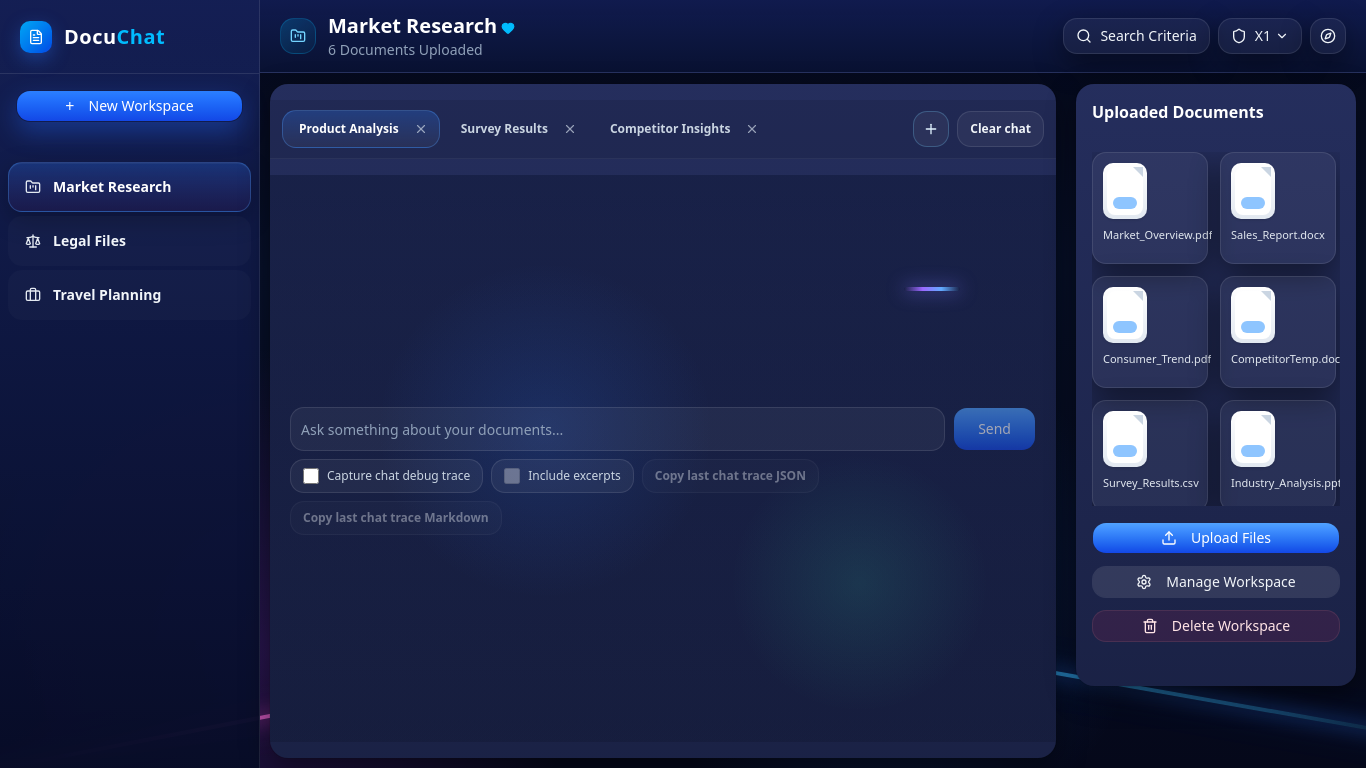
Scenario: App › closes the icon peaker on Escape
Click the button named "Change icon for Market Research": [298, 36] box [280, 18, 316, 54]
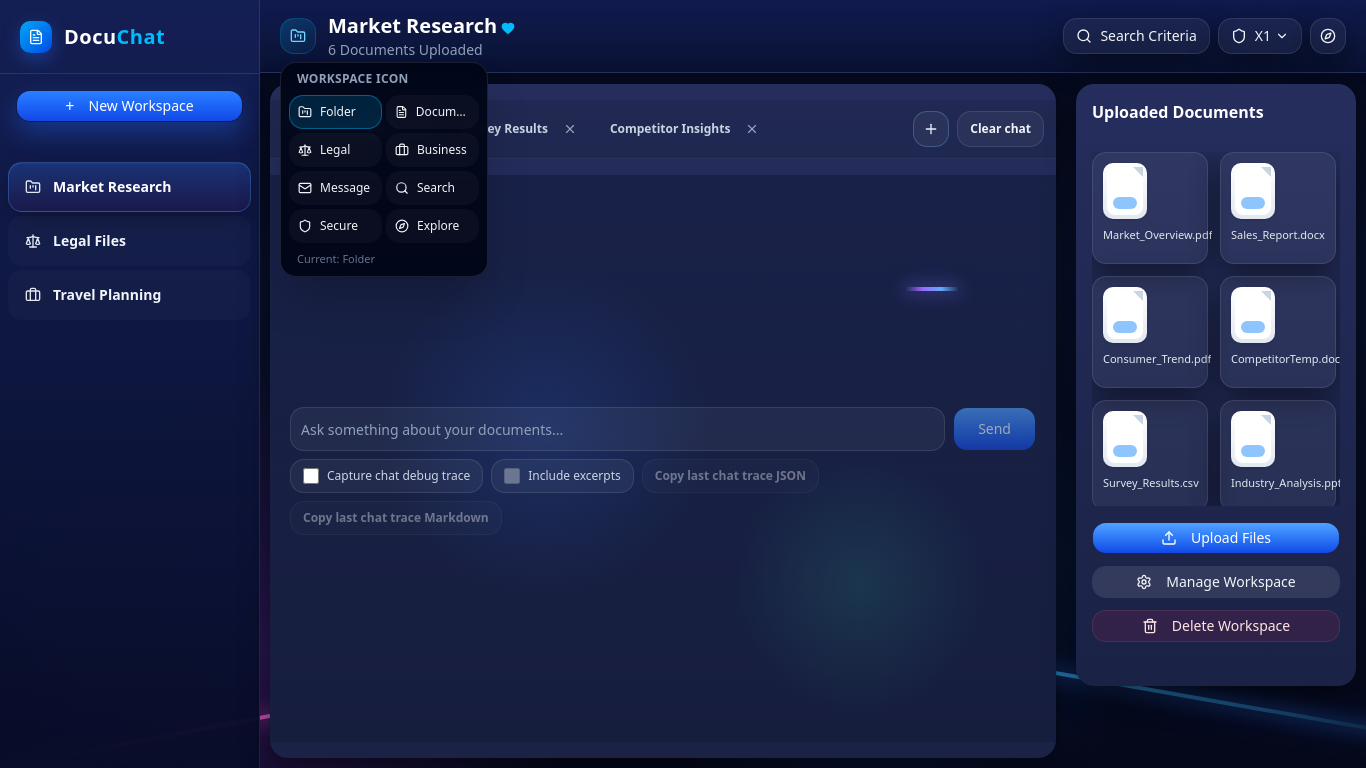
Now the text "Workspace icon" is shown, box [297, 70, 409, 87]
Press Escape
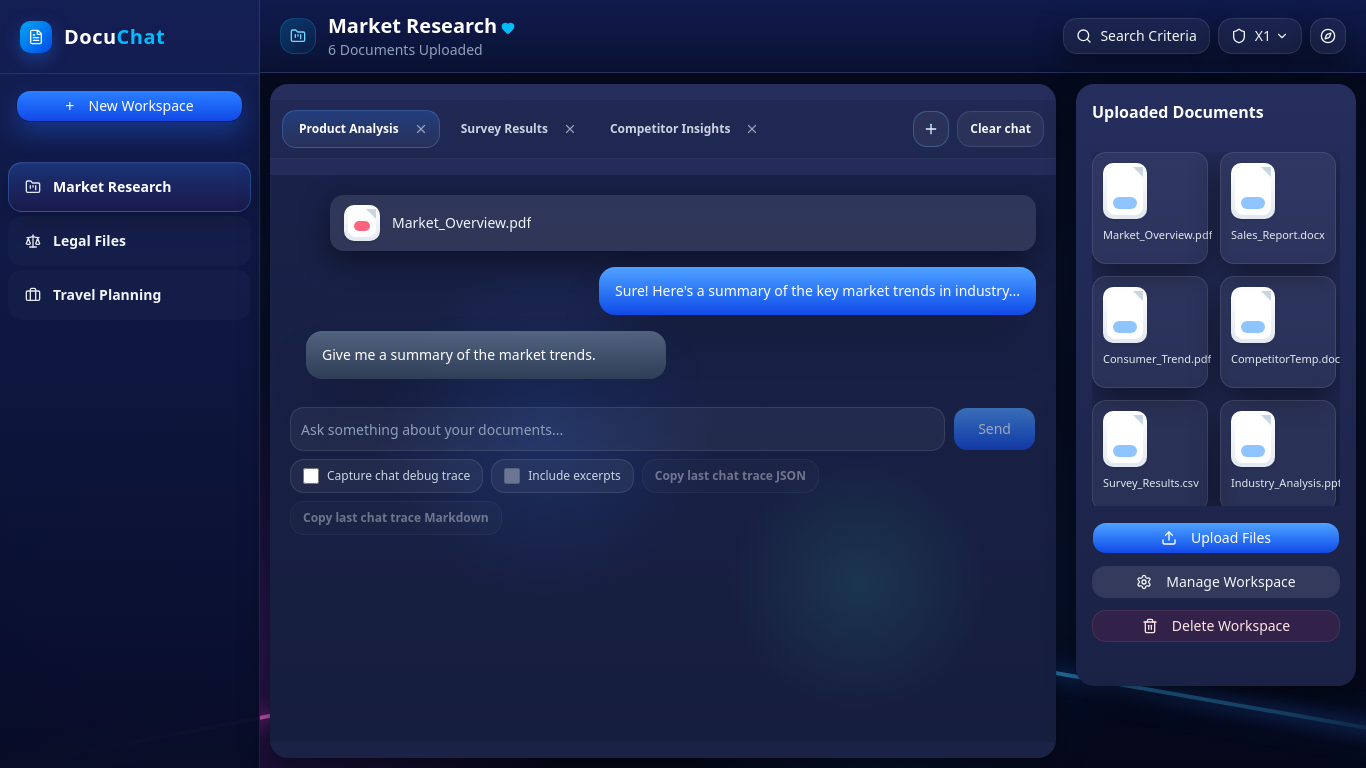
Now the text "Workspace icon" is gone
